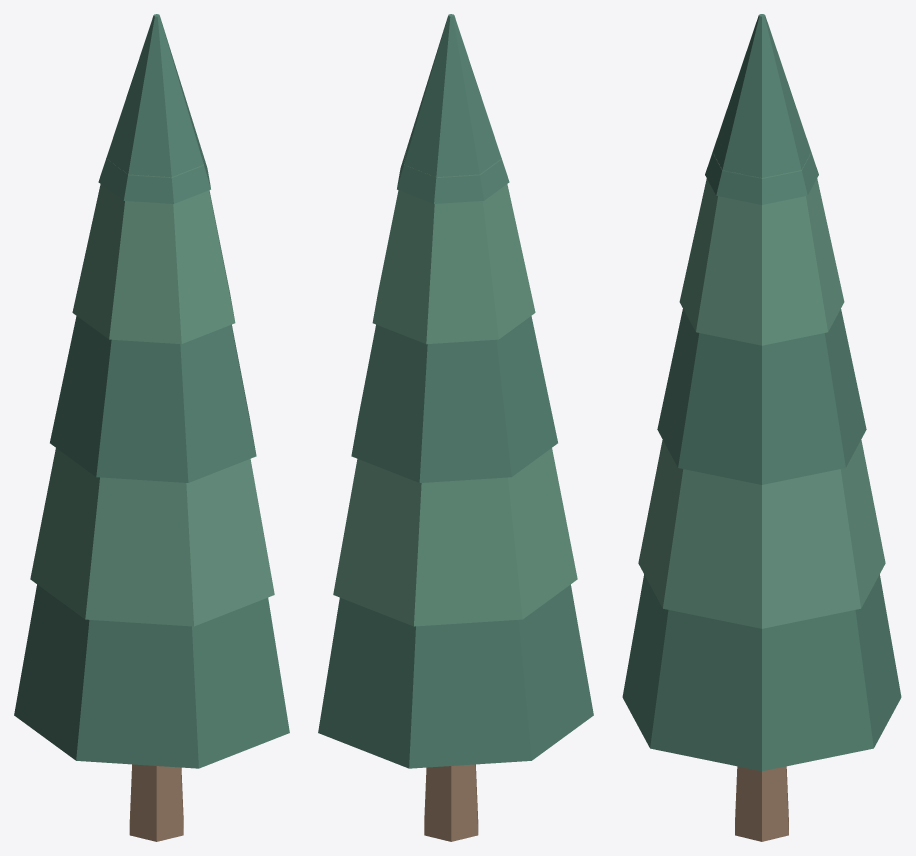
The model's file is flora_13_cypress_tung_bach_dinh_thu_tree.glb.
3 renders of one model, left to right at view 1: azimuth 30°, elevation 25°; view 2: azimuth 150°, elevation 25°; view 3: azimuth 270°, elevation 25°, orthographic.
Visible parts, largest first — view 1: flora_13_cypress_tung_bach_dinh_thu_tree; view 2: flora_13_cypress_tung_bach_dinh_thu_tree; view 3: flora_13_cypress_tung_bach_dinh_thu_tree.
Part boxes in pixels (x1,y1,x2,y2): flora_13_cypress_tung_bach_dinh_thu_tree: (14,14,289,841); flora_13_cypress_tung_bach_dinh_thu_tree: (318,14,593,841); flora_13_cypress_tung_bach_dinh_thu_tree: (622,14,901,841).
Bounding box in the file's own units: 4.18 × 13.8 × 4.29.
